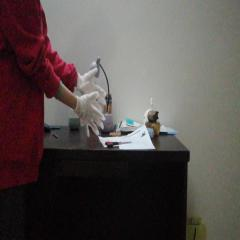gloved: (77, 91, 106, 136), (77, 71, 106, 100)
